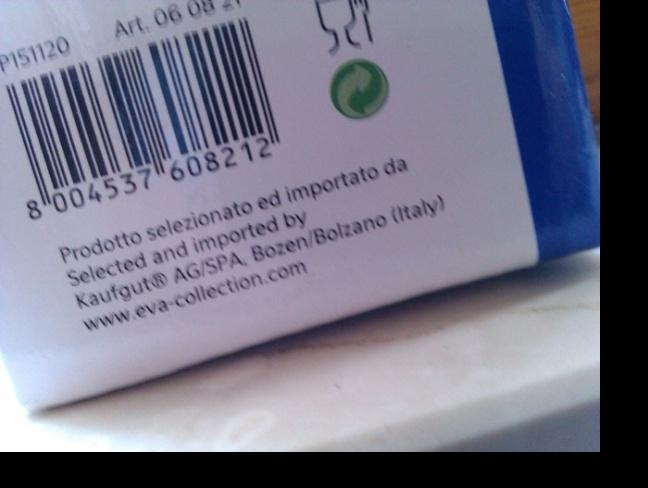Barcode: (4, 7, 297, 229)
